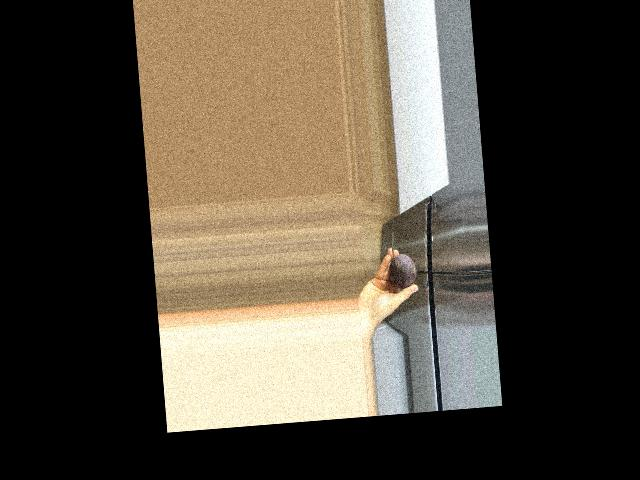beet: (386, 230, 417, 289)
